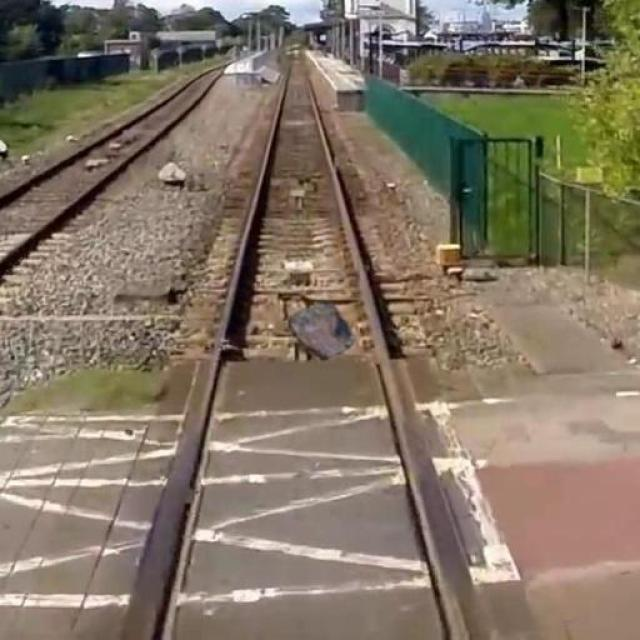Stone: (282, 297, 361, 366)
